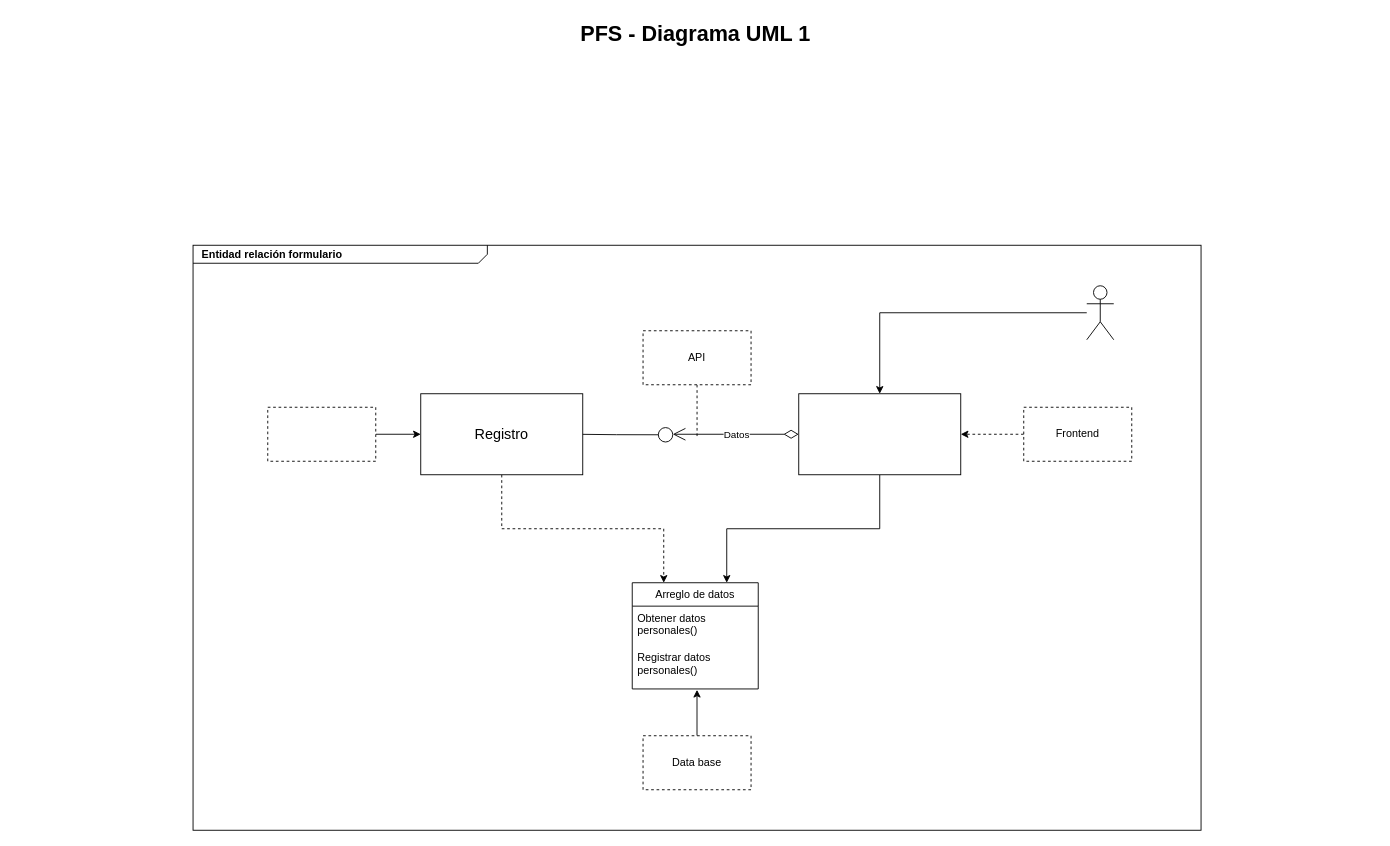
This 1390x846 diagram has some shape labels left out. Here are the shapes that lost their labels. From the top down, the centre of each, then its label:
At (x=1100, y=312): "User".
At (x=321, y=433): "Backend".
At (x=879, y=434): "Cliente".
